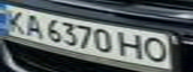0: (93, 26, 118, 54)
3: (57, 20, 78, 47)
6: (39, 17, 63, 43)
7: (75, 22, 93, 51)
A: (21, 11, 48, 38)
H: (115, 30, 148, 60)
K: (0, 7, 30, 34)
O: (139, 35, 172, 64)
